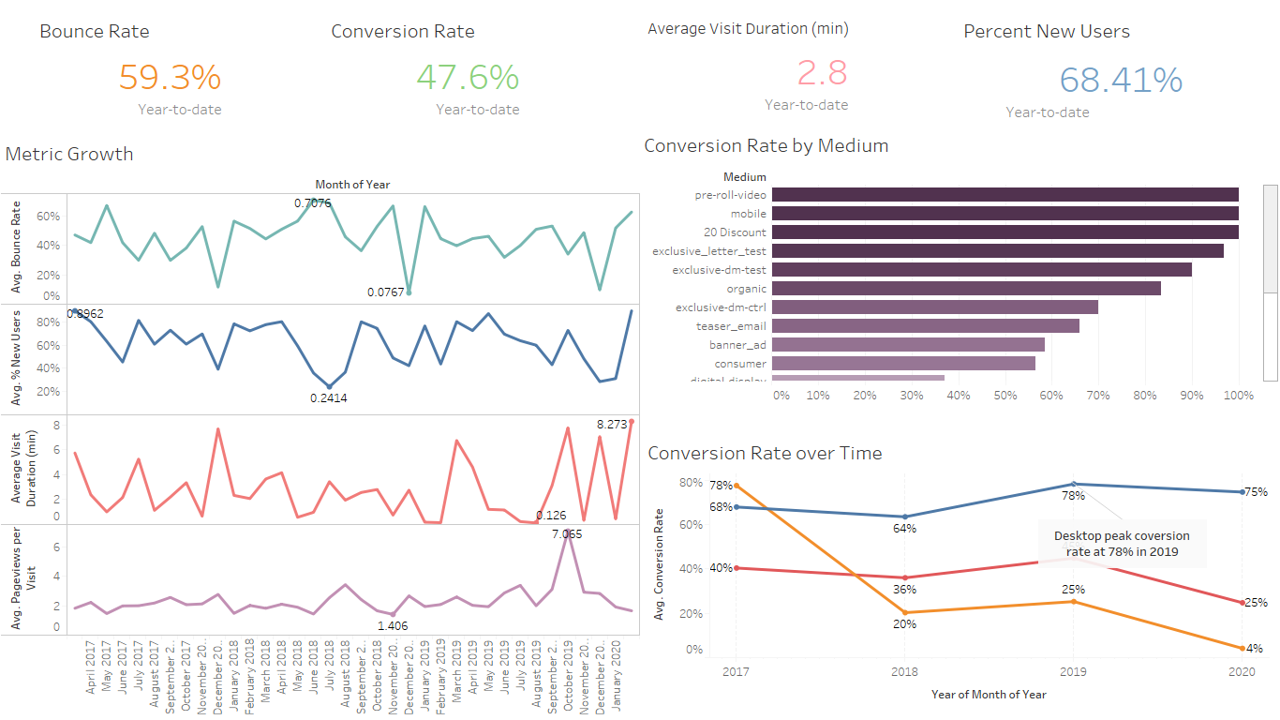

What the dashboard file says about the page in this screenshot:
{"tool":"tableau","page":{"name":"Dashboard 2","canvas":[1366,768],"ordinal":1},"visuals":[{"type":"worksheet","box":[0,0,1366,768]},{"type":"worksheet","param":"horz","box":[8,8,1350,752]},{"type":"worksheet","param":"horz","box":[8,8,1350,752]},{"type":"worksheet","param":"horz","box":[8,8,1350,752]},{"type":"worksheet","box":[8,8,1350,752]},{"type":"worksheet","title":"Bounce Rate","mark":"Automatic","box":[8,8,337.5,752]},{"type":"worksheet","title":"Sheet 16","mark":"Automatic","box":[345.5,8,337.5,752]},{"type":"worksheet","title":"avg visit dur","mark":"Automatic","box":[683,8,337.5,450]},{"type":"worksheet","title":"Percent new Users","mark":"Automatic","box":[1020.5,8,337.5,450]},{"type":"worksheet","title":"Sheet 10","mark":"Automatic","rows":["Medium"],"cols":["Calculation_826973529633734657"],"box":[683,134,681,310]},{"type":"worksheet","title":"Sheet 13","mark":"Automatic","rows":["Calculation_749286433572782081","Calculation_749286433598398470","Calculation_749286433598144517","Calculation_749286433598062596"],"cols":["Month of Year"],"box":[1,143,682,622]},{"type":"worksheet","title":"Sheet 12","mark":"Line","rows":["Calculation_826973529633734657"],"cols":["Month of Year"],"box":[683,458,675,302]}]}

Visuals, with their boxes in screenshot pixels (x1, y1, x2, y2), scaled from the page's 1366x768 canvas onto the 1280x720 screenshot:
worksheet: (left=0, top=0, right=1279, bottom=719)
worksheet: (left=7, top=8, right=1273, bottom=712)
worksheet: (left=7, top=8, right=1273, bottom=712)
worksheet: (left=7, top=8, right=1273, bottom=712)
worksheet: (left=7, top=8, right=1273, bottom=712)
"Bounce Rate" worksheet: (left=7, top=8, right=324, bottom=712)
"Sheet 16" worksheet: (left=324, top=8, right=640, bottom=712)
"avg visit dur" worksheet: (left=640, top=8, right=956, bottom=429)
"Percent new Users" worksheet: (left=956, top=8, right=1273, bottom=429)
"Sheet 10" worksheet: (left=640, top=126, right=1278, bottom=416)
"Sheet 13" worksheet: (left=1, top=134, right=640, bottom=717)
"Sheet 12" worksheet (Line marks): (left=640, top=429, right=1273, bottom=712)
